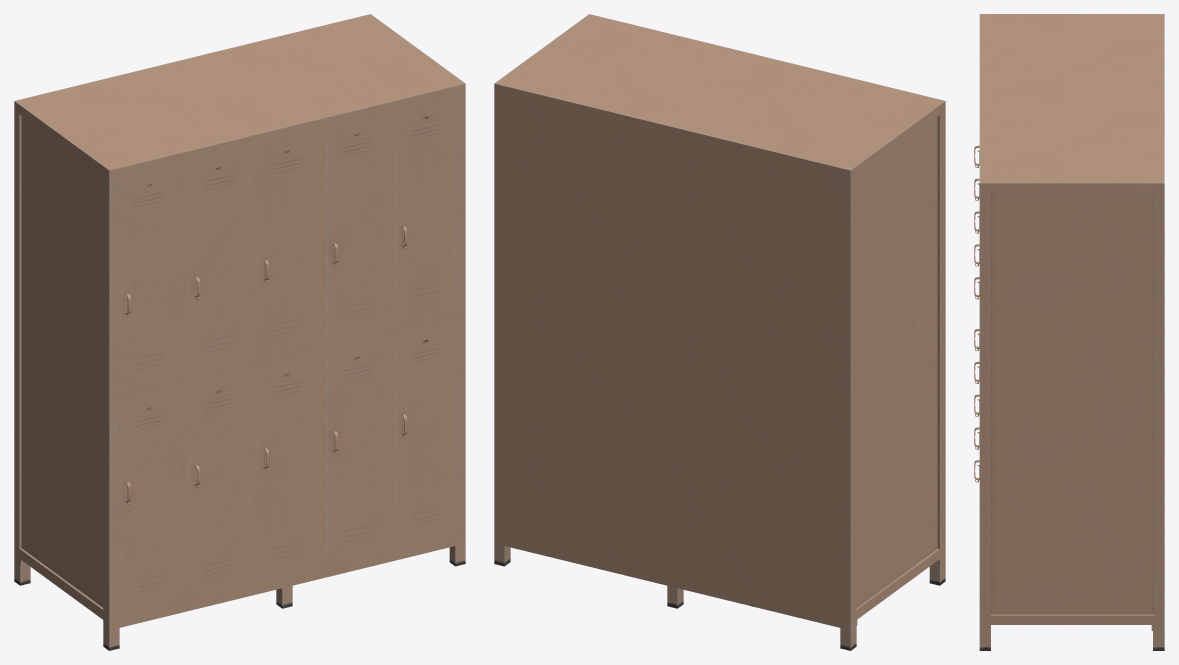
The model's file is industrial.fbx.
The picture shows the model from 3 angles, left to right: view 1: azimuth 30°, elevation 25°; view 2: azimuth 150°, elevation 25°; view 3: azimuth 270°, elevation 25°; orthographic projection. The views are drawn at different scales.
Visible parts, largest first — view 1: Object_2; view 2: Object_2; view 3: Object_2.
Part boxes in pixels (x1=…): Object_2: x1=14, y1=14, x2=465, y2=650; Object_2: x1=494, y1=14, x2=945, y2=650; Object_2: x1=974, y1=14, x2=1164, y2=650.
Bounding box in the file's own units: 115 × 148 × 54.61.
